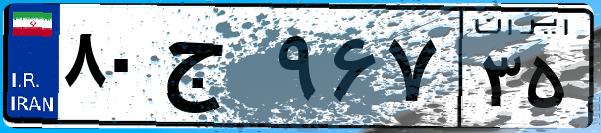0: (110, 28, 158, 98)
3: (475, 38, 525, 113)
5: (525, 38, 570, 115)
6: (330, 28, 385, 110)
7: (385, 28, 445, 110)
8: (57, 26, 110, 100)
9: (270, 28, 330, 110)
ج: (158, 20, 270, 120)
